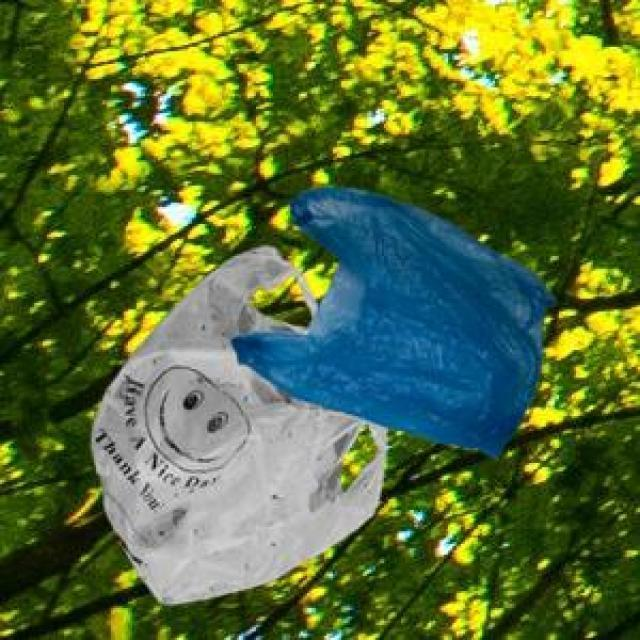waste: (91, 188, 551, 603)
